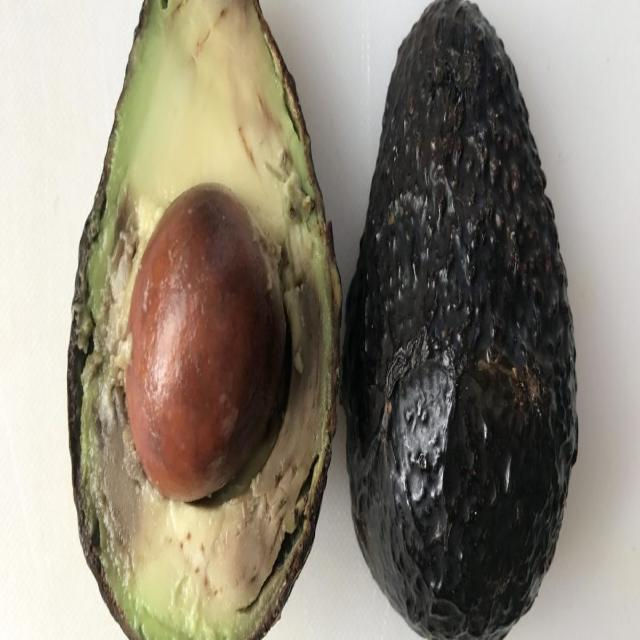avocado: (75, 0, 340, 640), (345, 2, 578, 640)
